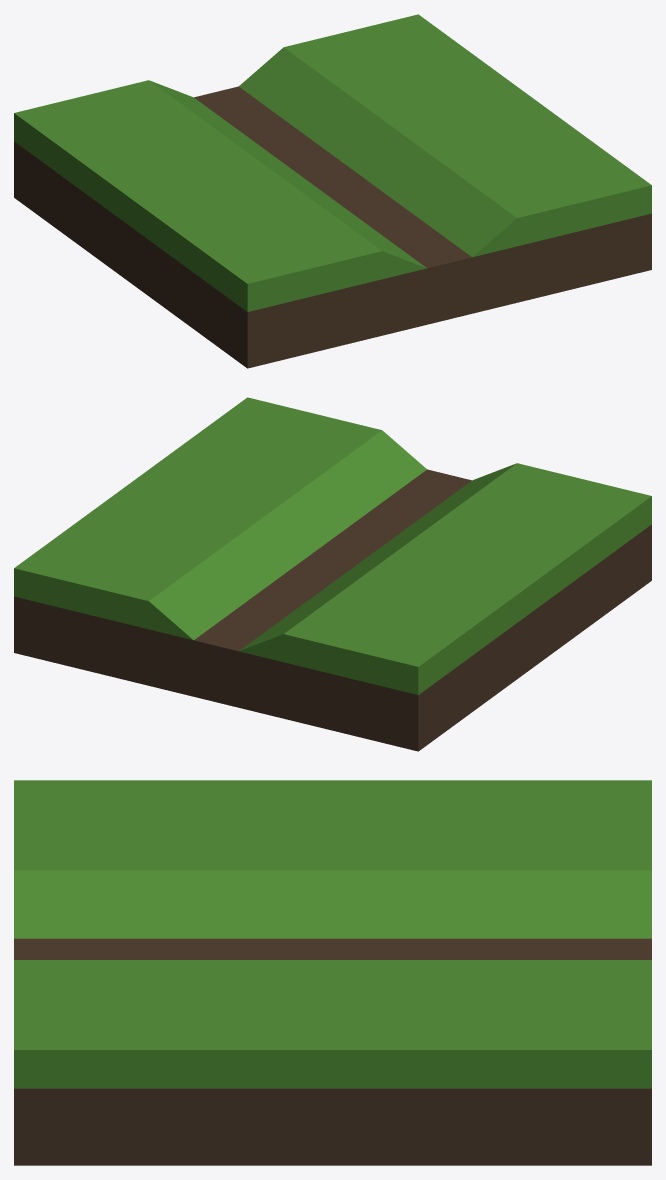
Rendered from tile-river-basin.glb.
The picture shows the model from 3 angles, top to bottom: view 1: azimuth 30°, elevation 25°; view 2: azimuth 150°, elevation 25°; view 3: azimuth 270°, elevation 25°; orthographic projection. The views are drawn at different scales.
Parts seen in each view (by area): view 1: tile-river-basin; view 2: tile-river-basin; view 3: tile-river-basin.
Boxes of the visible parts, bbox=[...] form: tile-river-basin: bbox=[14, 14, 651, 368]; tile-river-basin: bbox=[14, 397, 651, 751]; tile-river-basin: bbox=[14, 780, 651, 1165].
Bounding box in the file's own units: 30 × 6 × 30.
Materials: 1 (1 with a texture image).
